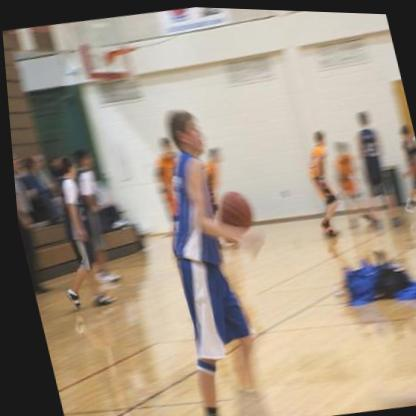basketball: (212, 186, 252, 232)
rim: (107, 43, 137, 58)
